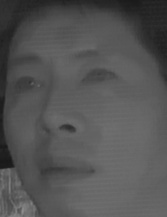eye: (79, 66, 118, 91), (11, 74, 48, 96)
mouth: (35, 148, 97, 189)
